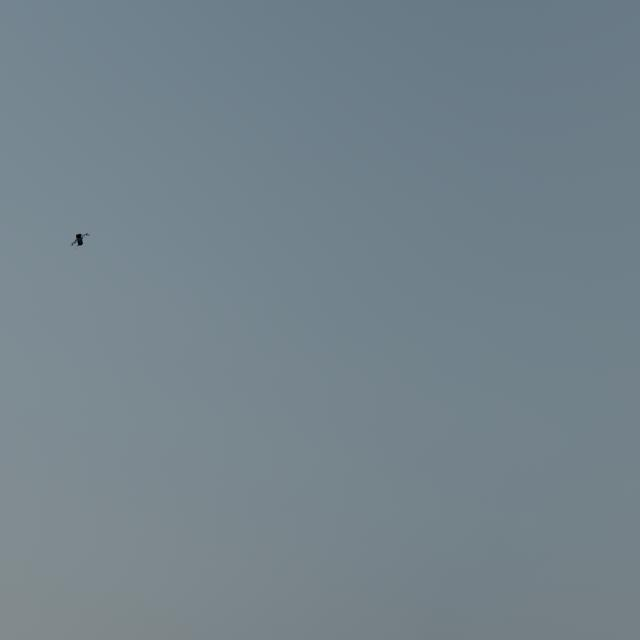drone: (69, 233, 90, 250)
